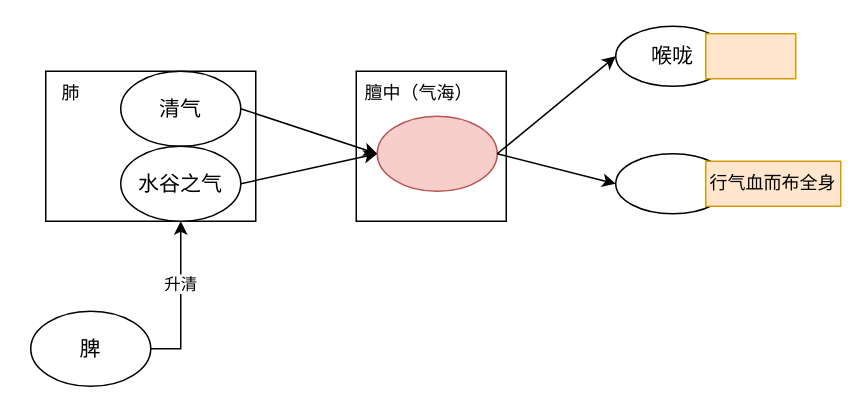
Some shapes in this 867 by 413 pixel diagram are drawn without their labels. Each missing label, with the box of its shape:
促进呼吸: (704, 32, 796, 79)
宗气: (376, 115, 497, 191)
心脉: (614, 152, 730, 214)
